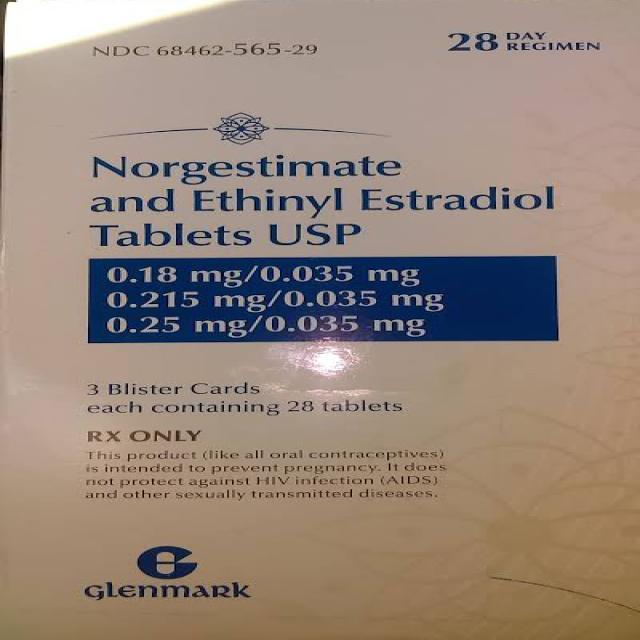drug-name: (80, 152, 560, 216)
